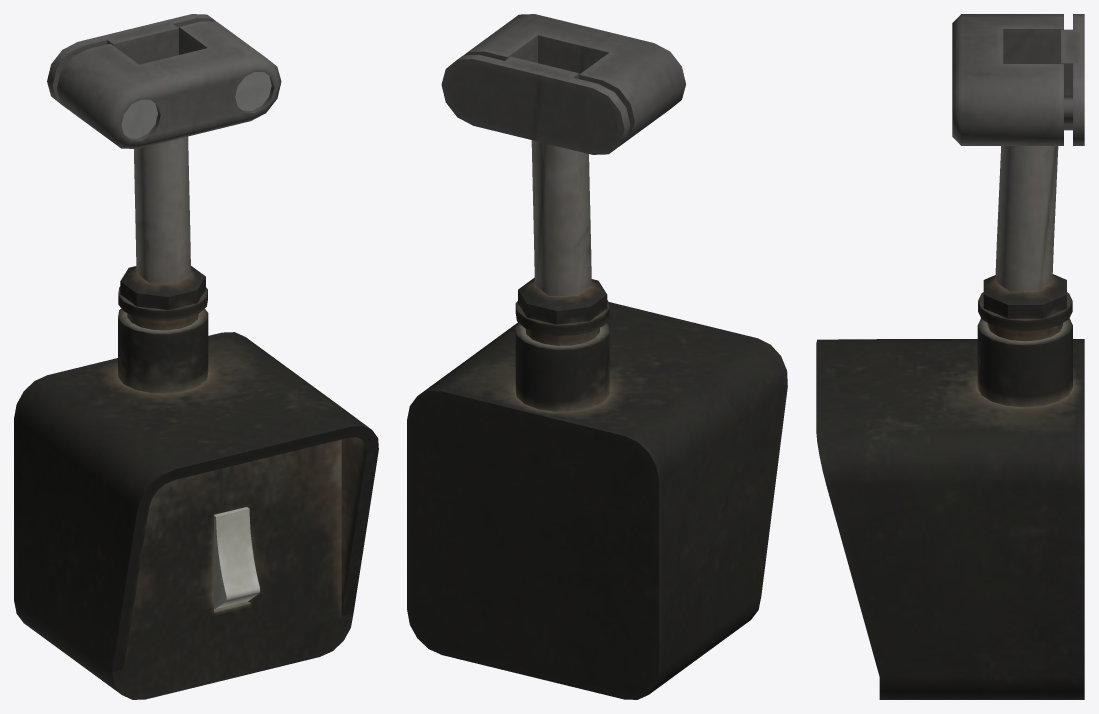
Rendered from cable_lightswitch_2.gltf.
3 views of the same model, side by side, from view 1: azimuth 30°, elevation 25°; view 2: azimuth 150°, elevation 25°; view 3: azimuth 270°, elevation 25° (orthographic). The views are drawn at different scales.
Visible parts, largest first — view 1: cable_lightswitch_2; view 2: cable_lightswitch_2; view 3: cable_lightswitch_2.
Boxes of the visible parts, x1,y1,x2,y2 form: cable_lightswitch_2: (14, 14, 378, 699); cable_lightswitch_2: (407, 14, 787, 699); cable_lightswitch_2: (816, 14, 1084, 699).
Bounding box in the file's own units: 0.0572 × 0.1311 × 0.0527.
1 material, 1 textured.
